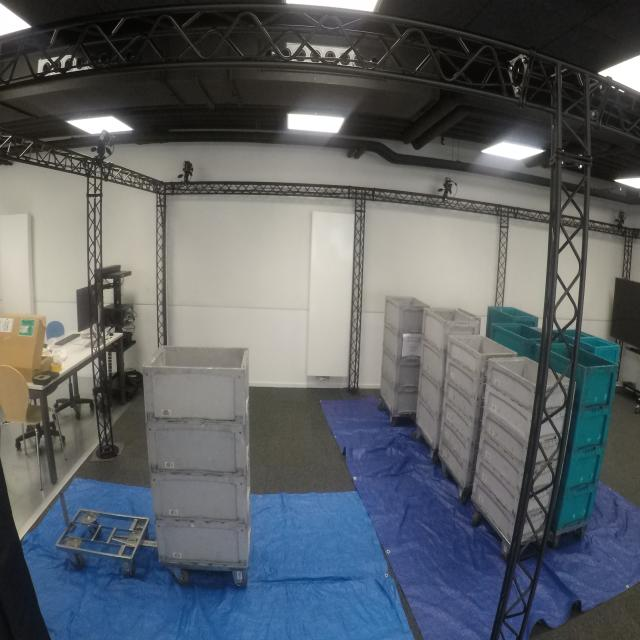Box4G: (142, 342, 252, 424), (142, 407, 253, 480), (151, 505, 258, 567), (148, 460, 255, 521), (423, 304, 476, 362), (383, 291, 429, 337), (377, 380, 418, 430), (382, 330, 424, 368), (412, 339, 444, 386), (416, 369, 444, 422), (414, 398, 439, 455), (381, 359, 424, 391)
BoxB4: (540, 339, 621, 408), (545, 483, 599, 544), (555, 444, 605, 493), (564, 410, 614, 457), (489, 322, 544, 356), (487, 299, 538, 326)
